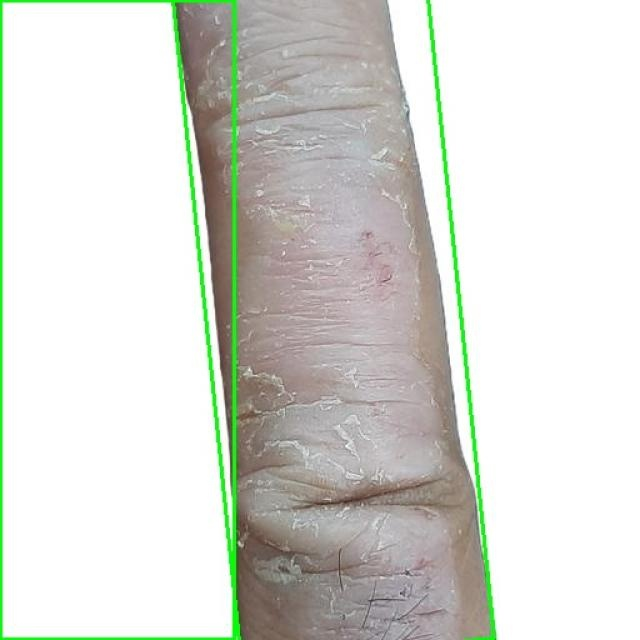Eczema: (173, 0, 494, 640), (0, 0, 234, 639)
